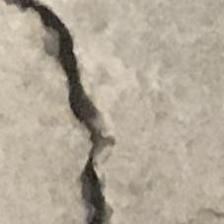Crack: (0, 0, 137, 224)
